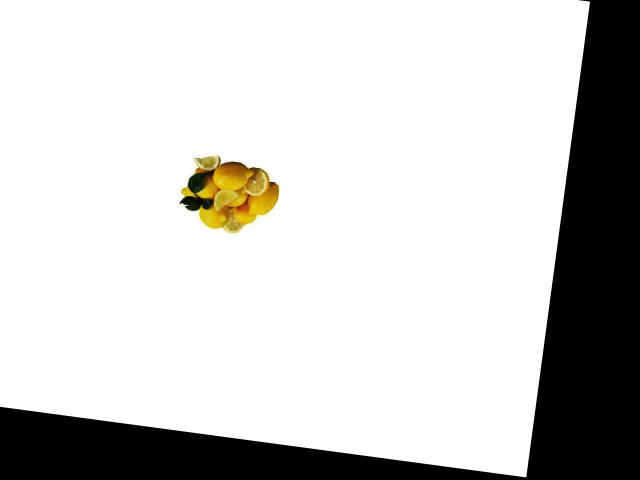lemon: (188, 166, 225, 201)
